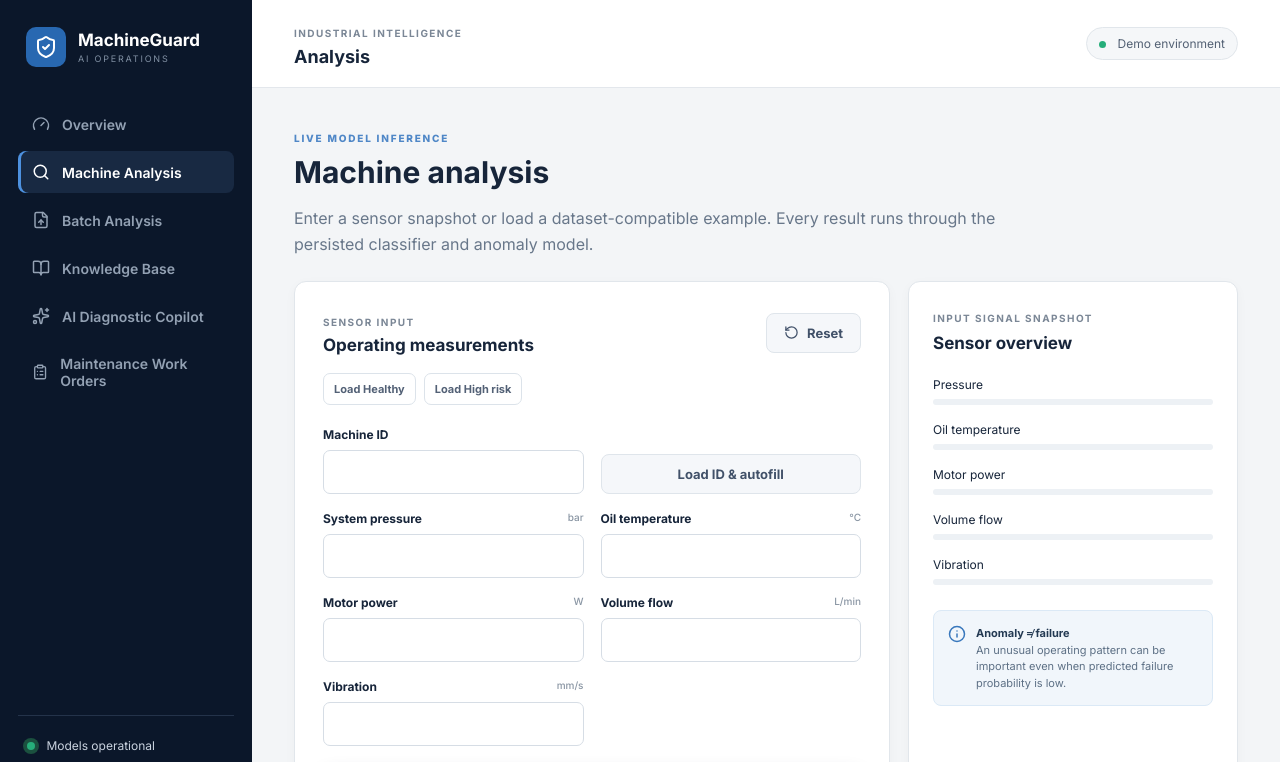
Scenario: machine analysis › shows an API error state
Click the button "Load Healthy". click: click(369, 389)
box: [323, 373, 416, 405]
(page scrolled)
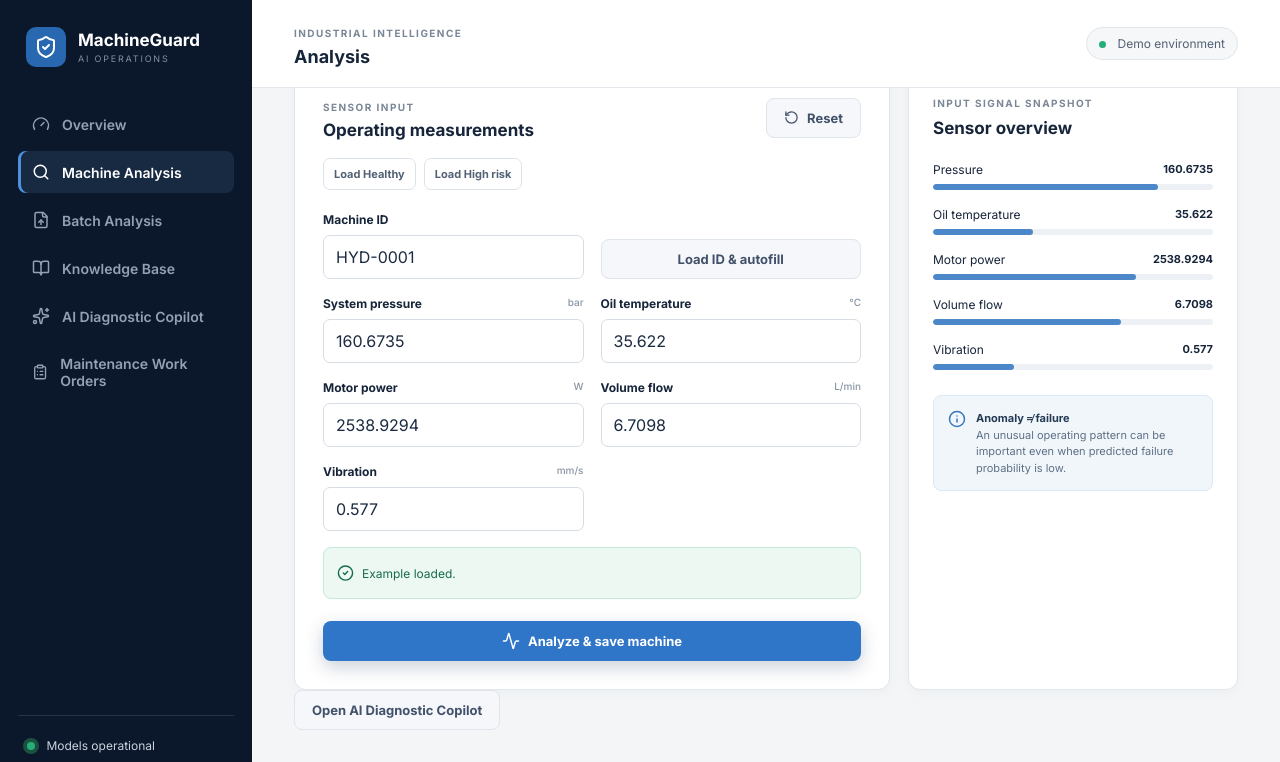
Click the button "Analyze & save machine". click: click(592, 641)
box: [323, 621, 861, 661]
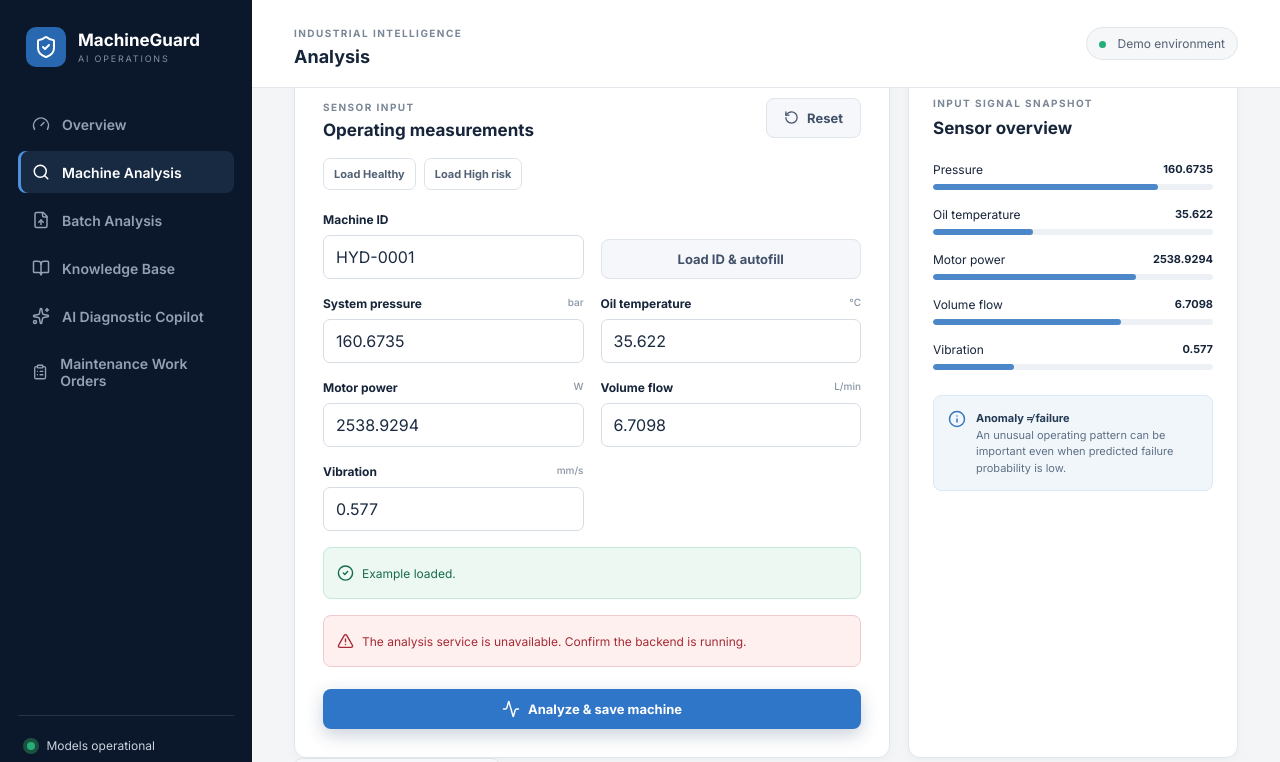
Now the message "The analysis service is unavailable. Confirm the backend is running." is shown, box [323, 615, 861, 667]
